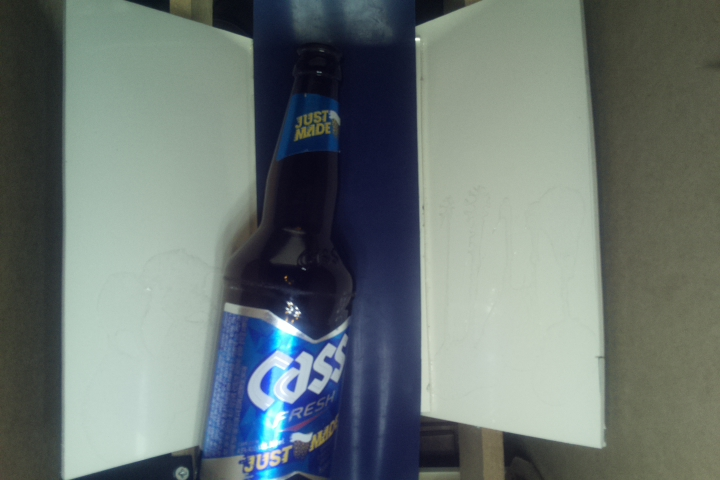makju: (190, 41, 359, 480)
